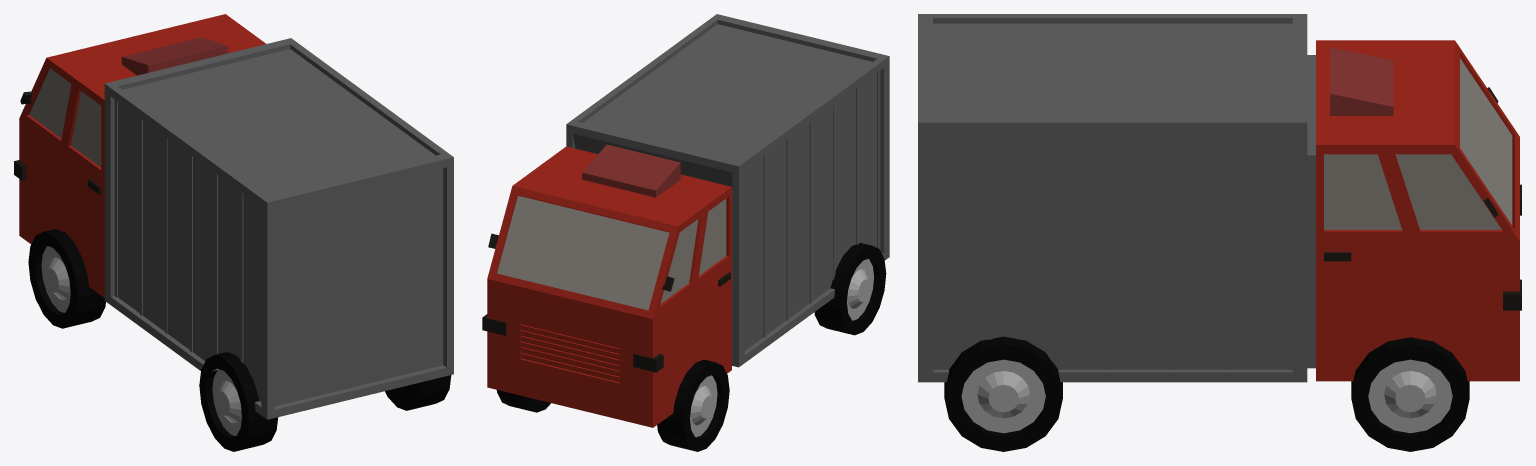
File: truck1.fbx
The picture shows the model from 3 angles, left to right: view 1: azimuth 30°, elevation 25°; view 2: azimuth 150°, elevation 25°; view 3: azimuth 270°, elevation 25°; orthographic projection. The views are drawn at different scales.
Visible parts, largest first — view 1: Cube, Cylinder.002, Cube.008, Cube.007; view 2: Cube, Cylinder.002, Cube.008, Cube.007, Cube.006, Cube.002, Cube.003, Cube.005, Cube.004, Cube.001; view 3: Cube, Cylinder.002, Cube.008, Cube.007.
Boxes of the visible parts, bbox=[...] form: Cube: bbox=[19, 14, 453, 419]; Cylinder.002: bbox=[28, 229, 451, 451]; Cube.008: bbox=[121, 37, 228, 75]; Cube.007: bbox=[14, 91, 101, 194]; Cube: bbox=[487, 14, 889, 427]; Cylinder.002: bbox=[496, 243, 886, 451]; Cube.008: bbox=[582, 144, 680, 197]; Cube.007: bbox=[482, 233, 730, 372]; Cube.006: bbox=[521, 353, 619, 381]; Cube.002: bbox=[521, 330, 619, 358]; Cube.003: bbox=[521, 336, 619, 364]; Cube.005: bbox=[521, 347, 619, 375]; Cube.004: bbox=[521, 341, 619, 369]; Cube.001: bbox=[521, 324, 619, 352]; Cube: bbox=[918, 14, 1519, 382]; Cylinder.002: bbox=[944, 336, 1469, 451]; Cube.008: bbox=[1330, 47, 1393, 115]; Cube.007: bbox=[1324, 87, 1521, 310].
Size of the model in its own units: 217 by 274 by 463.
